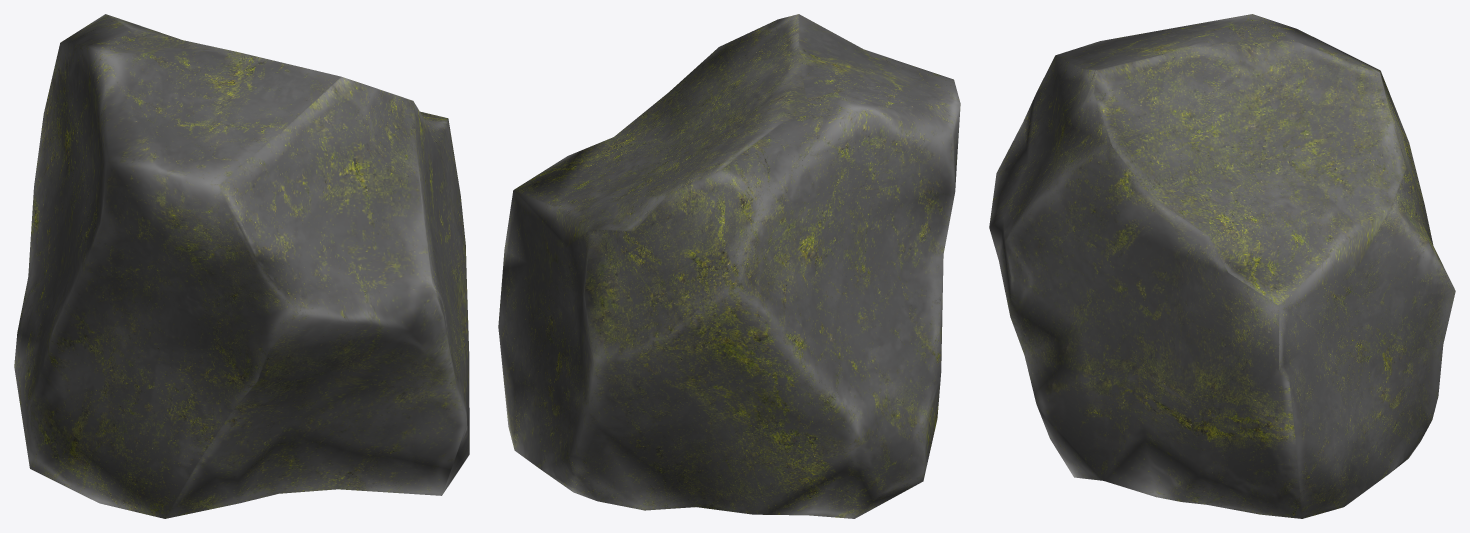
The model's file is ROK0110012.fbx.
3 views of the same model, side by side, from view 1: azimuth 30°, elevation 25°; view 2: azimuth 150°, elevation 25°; view 3: azimuth 270°, elevation 25° (orthographic). The views are drawn at different scales.
Visible parts, largest first — view 1: smROK0110012; view 2: smROK0110012; view 3: smROK0110012.
Boxes of the visible parts, x1,y1,x2,y2 form: smROK0110012: (14,14,469,518); smROK0110012: (498,14,960,518); smROK0110012: (989,14,1455,518).
Size of the model in its own units: 115 by 107 by 120.
1 material, 1 textured.
